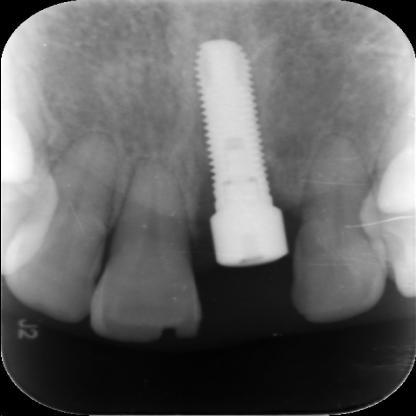Bego: (178, 28, 289, 290)
